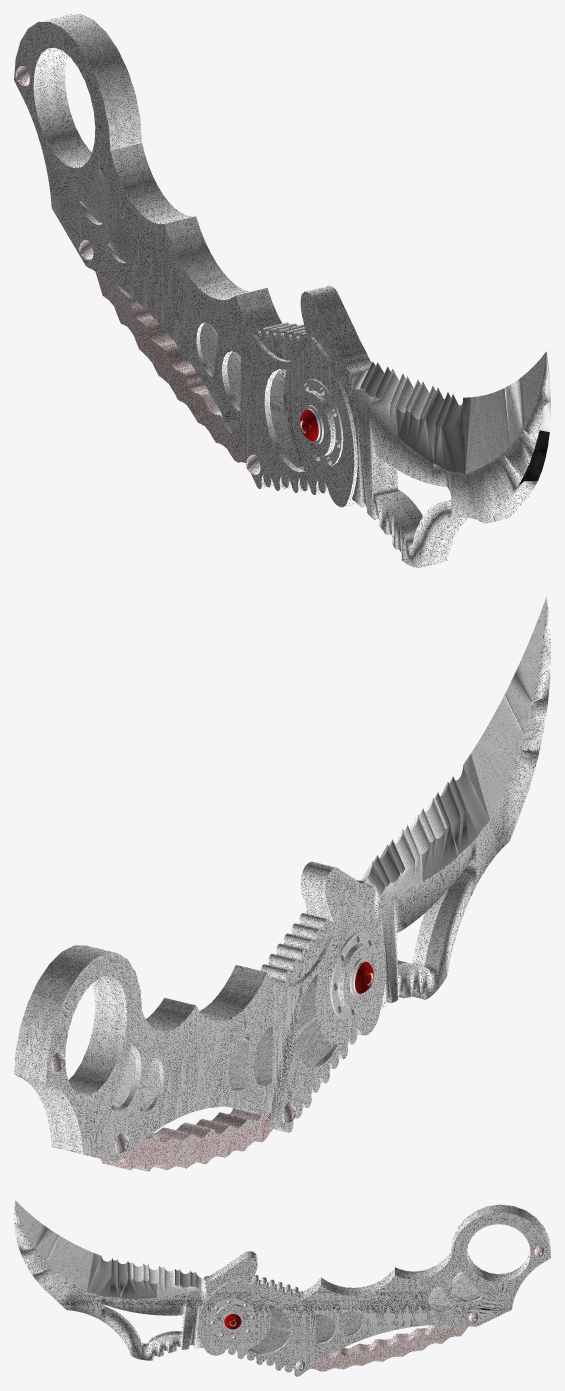
The model's file is model_align.obj.
The picture shows the model from 3 angles, top to bottom: view 1: azimuth 30°, elevation 25°; view 2: azimuth 150°, elevation 25°; view 3: azimuth 270°, elevation 25°; orthographic projection. The views are drawn at different scales.
Parts seen in each view (by area): view 1: mesh1_mesh1-geometry, mesh2_mesh2-geometry; view 2: mesh1_mesh1-geometry, mesh2_mesh2-geometry; view 3: mesh1_mesh1-geometry, mesh4_mesh4-geometry.
Part boxes in pixels (left/top/right/bottom): mesh1_mesh1-geometry: left=14, top=14, right=550, bottom=567; mesh2_mesh2-geometry: left=297, top=379, right=343, bottom=466; mesh1_mesh1-geometry: left=14, top=597, right=550, bottom=1171; mesh2_mesh2-geometry: left=330, top=931, right=376, bottom=1018; mesh1_mesh1-geometry: left=14, top=1200, right=550, bottom=1376; mesh4_mesh4-geometry: left=209, top=1298, right=255, bottom=1340.
Size of the model in its own units: 0.0133 by 0.0632 by 0.1782.
7 materials, 6 textured.
